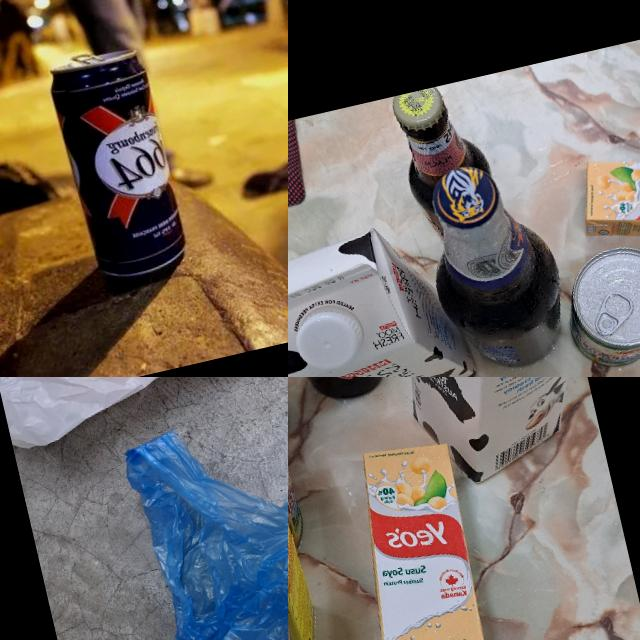aba de lata: (583, 278, 639, 337), (70, 50, 104, 67)
caixinha: (337, 434, 497, 640), (350, 377, 605, 492), (288, 216, 463, 377), (564, 122, 640, 253)
garrafa de vidro: (410, 154, 573, 377), (384, 79, 499, 251)
lata: (45, 41, 191, 286), (553, 234, 640, 377)
sacola plástica: (118, 377, 288, 640), (0, 377, 288, 453)
tampa plástica: (288, 288, 369, 372)
